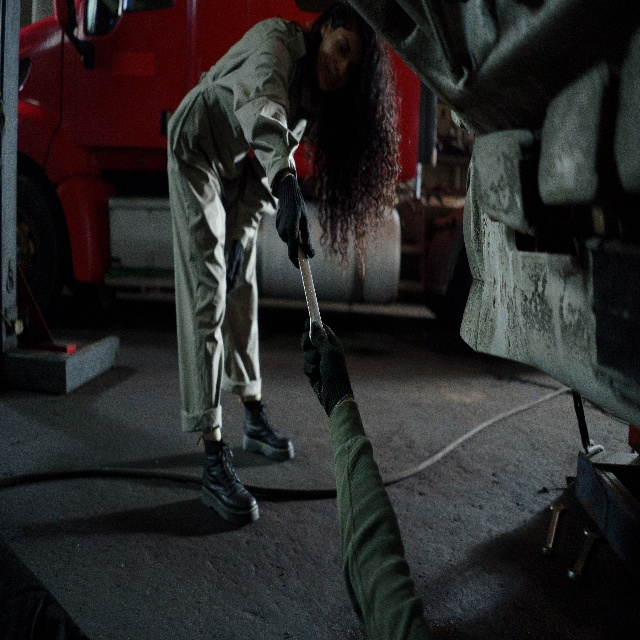Guantes: (301, 316, 355, 420), (273, 172, 316, 270), (224, 240, 245, 295)
